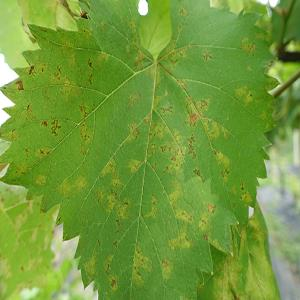Folha: (0, 0, 280, 298)
Fungo: (143, 112, 188, 175), (183, 89, 228, 143), (163, 172, 194, 250), (34, 54, 82, 104), (96, 158, 133, 220), (198, 197, 229, 256), (75, 87, 96, 164), (54, 171, 92, 201), (164, 33, 192, 72), (226, 171, 254, 210), (133, 246, 152, 289), (58, 32, 79, 70), (124, 18, 143, 60), (234, 82, 257, 110), (145, 89, 174, 111), (147, 56, 164, 86), (20, 102, 41, 126), (33, 144, 59, 163), (159, 253, 176, 281), (126, 154, 145, 178), (209, 146, 230, 166), (1, 126, 21, 144), (32, 171, 50, 190), (240, 35, 256, 56), (94, 51, 113, 68), (80, 24, 96, 43), (127, 90, 141, 110), (186, 133, 196, 159), (128, 120, 140, 140), (13, 164, 29, 178), (185, 110, 197, 126), (180, 3, 191, 20), (160, 104, 174, 117), (50, 118, 60, 136), (134, 52, 144, 70), (193, 168, 204, 183), (78, 102, 88, 118), (220, 168, 230, 183), (202, 47, 212, 61), (99, 18, 106, 36), (207, 202, 217, 214), (258, 108, 266, 123), (16, 80, 24, 90), (87, 56, 93, 68), (247, 60, 252, 73), (40, 119, 48, 127), (28, 64, 34, 74), (162, 258, 168, 268), (87, 73, 92, 84), (204, 234, 208, 241)
